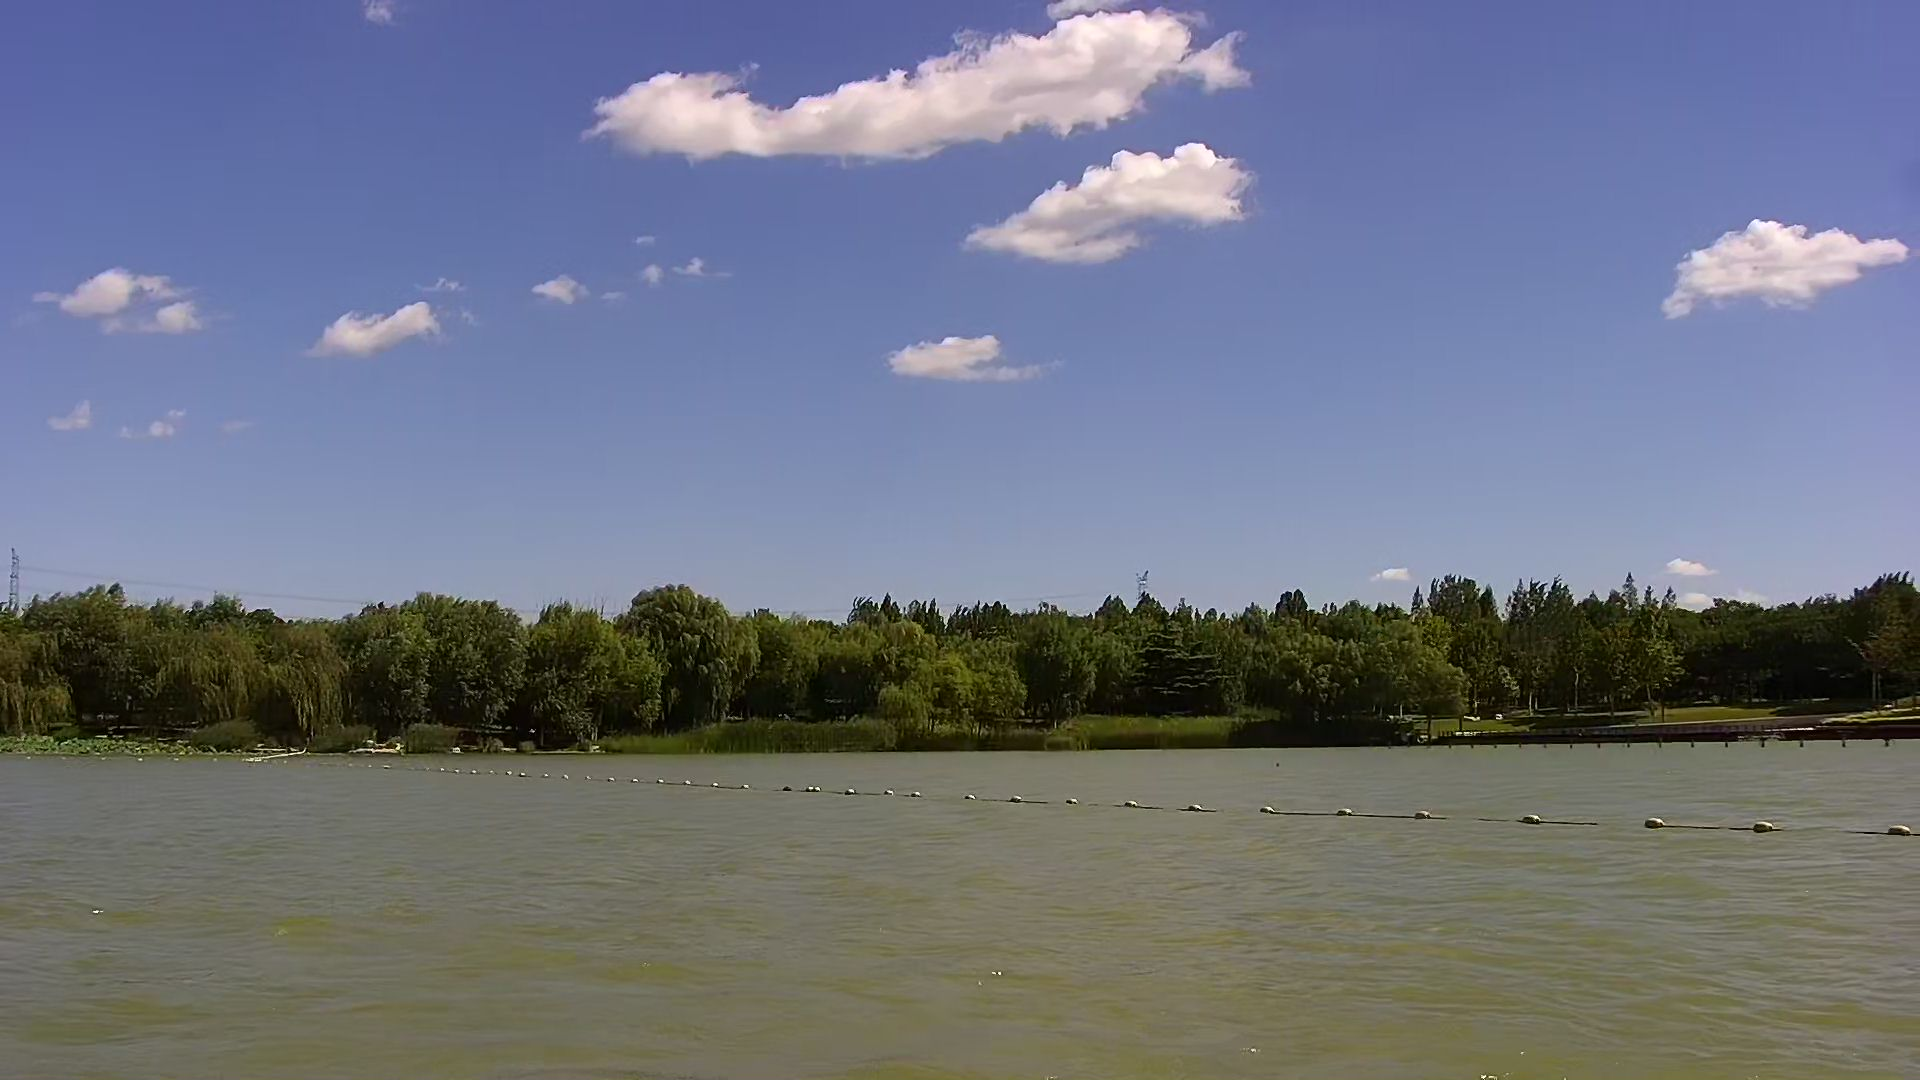ball: (1629, 796, 1689, 840), (1735, 806, 1789, 851), (1514, 796, 1567, 839), (1097, 785, 1149, 824), (1876, 802, 1920, 843), (1249, 789, 1288, 833), (1178, 785, 1211, 833), (1327, 793, 1356, 847), (1411, 800, 1443, 836)
